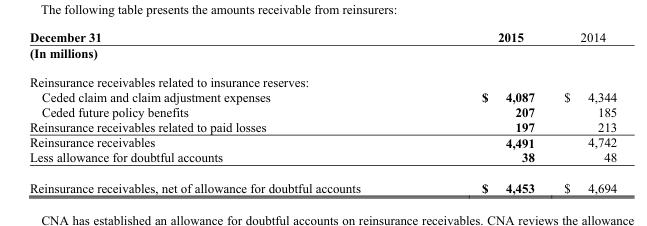table: (28, 29, 616, 194)
table column: (28, 29, 420, 194), (420, 29, 548, 194), (548, 29, 616, 194)
table column header: (28, 29, 616, 44)
table projected row header: (28, 44, 616, 67), (28, 67, 616, 89)
table row: (28, 44, 616, 67), (28, 149, 616, 172), (28, 67, 616, 89), (28, 172, 616, 194), (28, 29, 616, 44), (28, 89, 616, 104), (28, 104, 616, 119), (28, 119, 616, 134), (28, 134, 616, 149)
